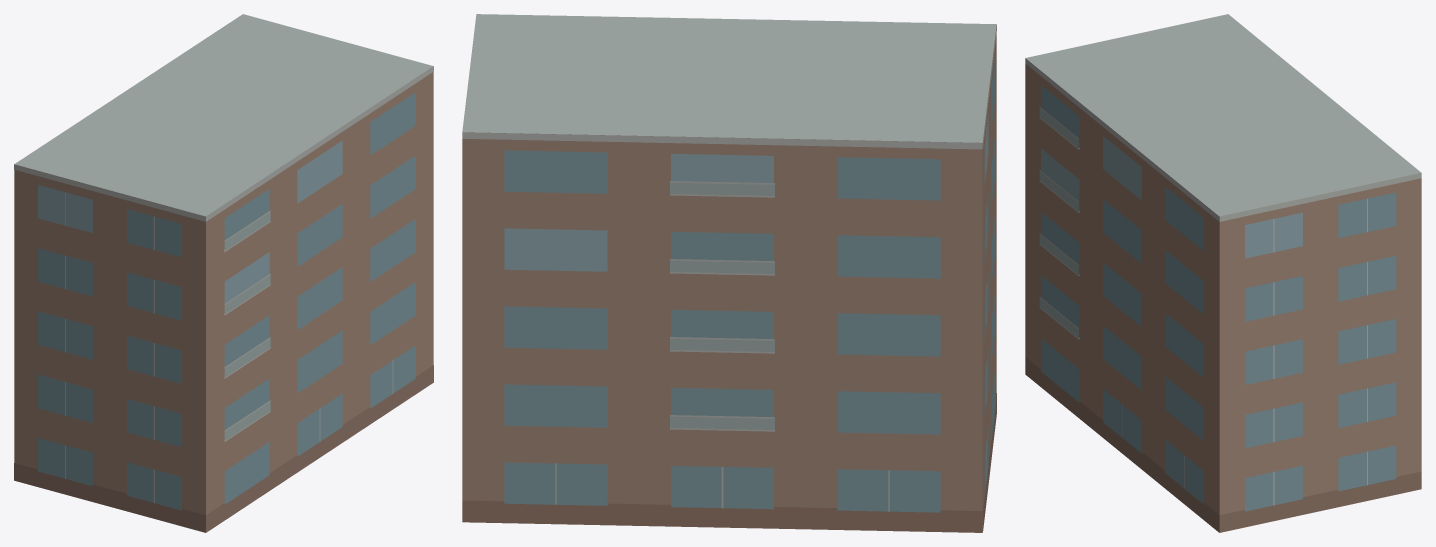
File: survey-upis-32744757.glb
3 views of the same model, side by side, from view 1: azimuth 30°, elevation 25°; view 2: azimuth 150°, elevation 25°; view 3: azimuth 270°, elevation 25° (orthographic). The views are drawn at different scales.
Parts seen in each view (by area): view 1: survey-upis-32744757.tmp; view 2: survey-upis-32744757.tmp; view 3: survey-upis-32744757.tmp.
Part boxes in pixels (box(x1,y1,x2,y2)): survey-upis-32744757.tmp: box(14, 14, 433, 532); survey-upis-32744757.tmp: box(462, 14, 996, 532); survey-upis-32744757.tmp: box(1025, 14, 1421, 532).
Size of the model in its own units: 19.79 by 14.4 by 16.36.
